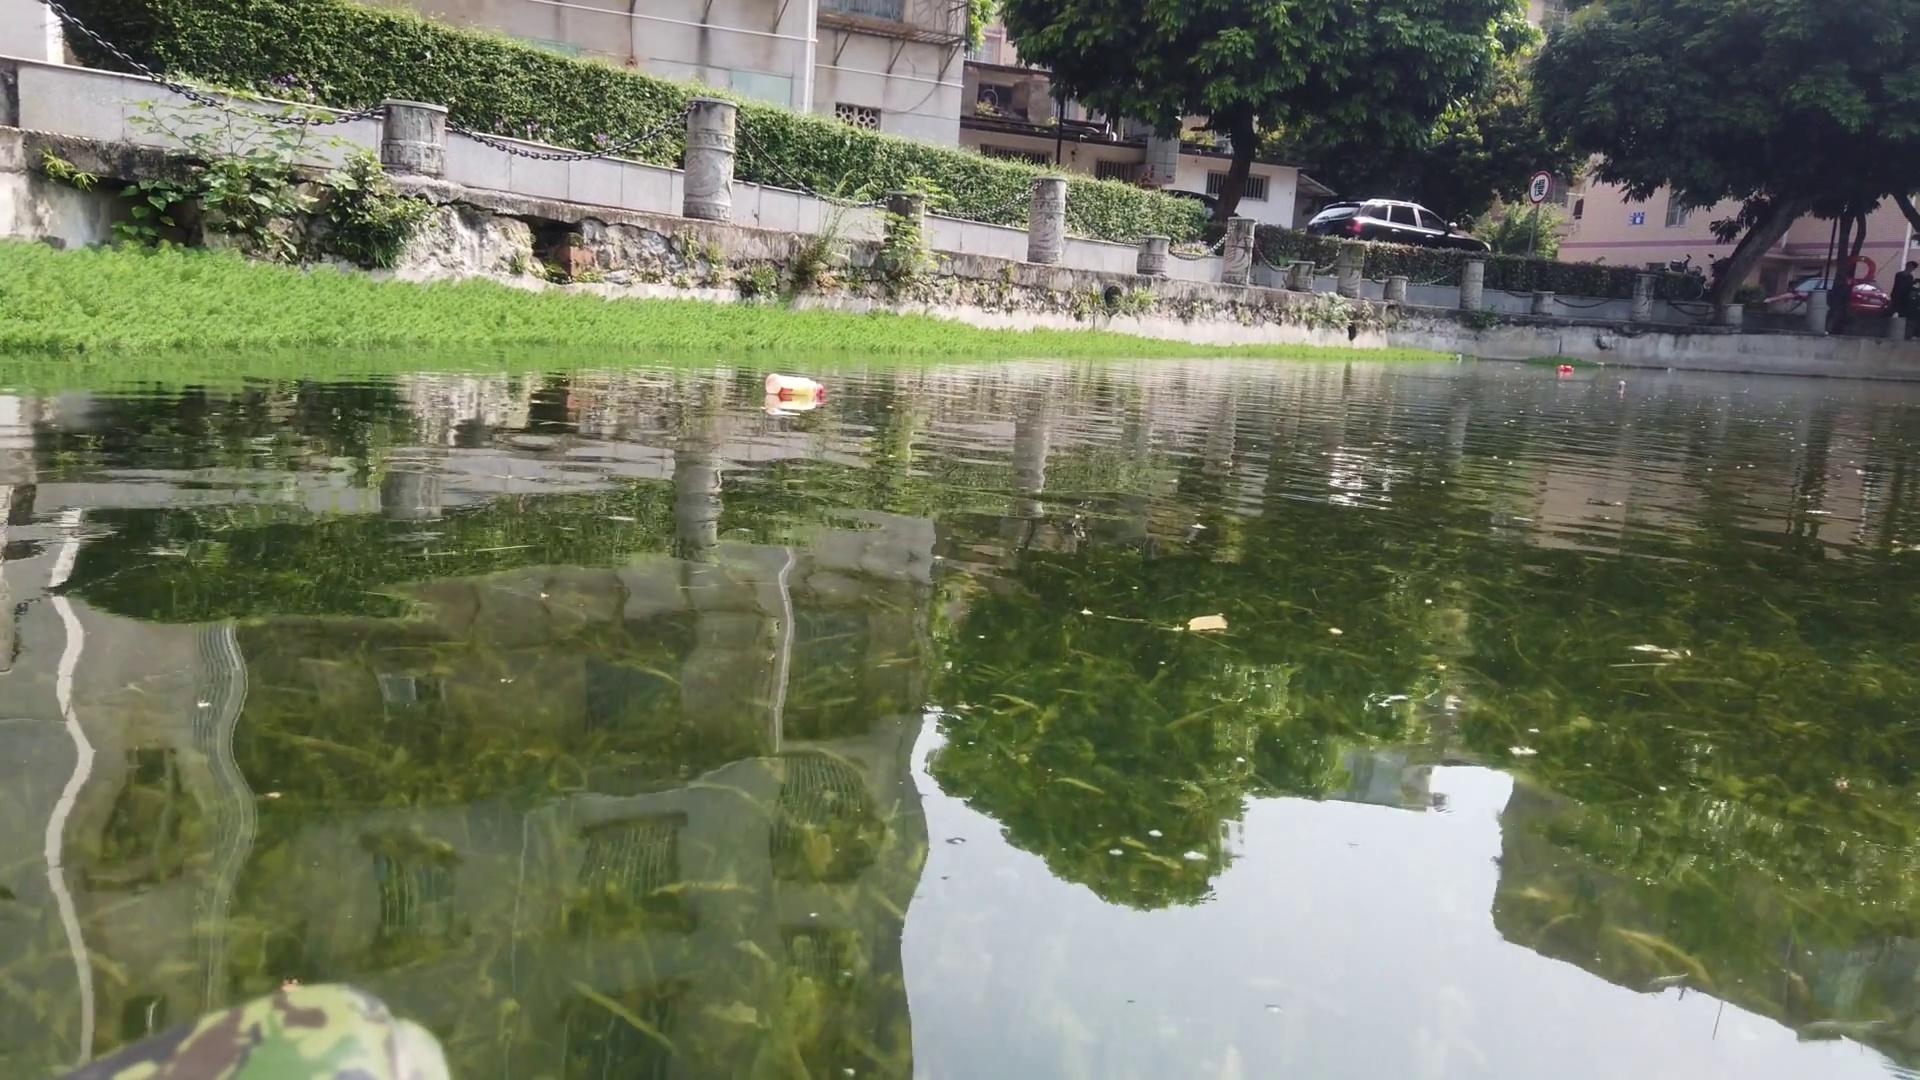bottle: (764, 373, 828, 396), (1555, 360, 1577, 378), (1615, 378, 1629, 393)
